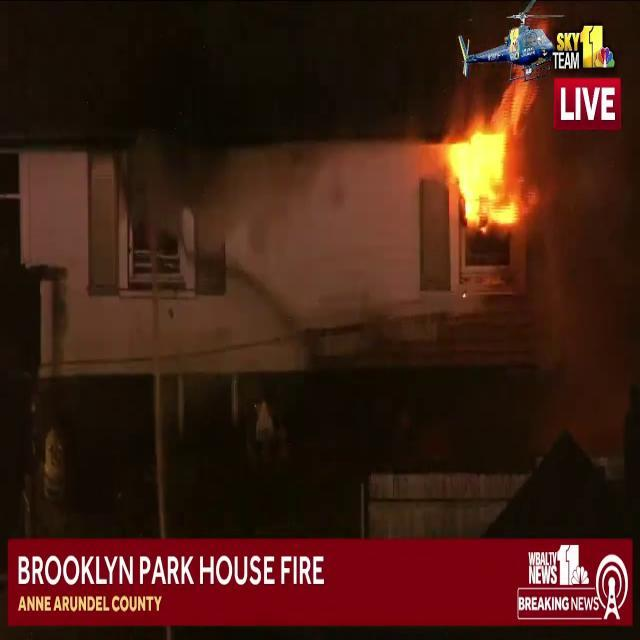Fire: (421, 85, 544, 231)
